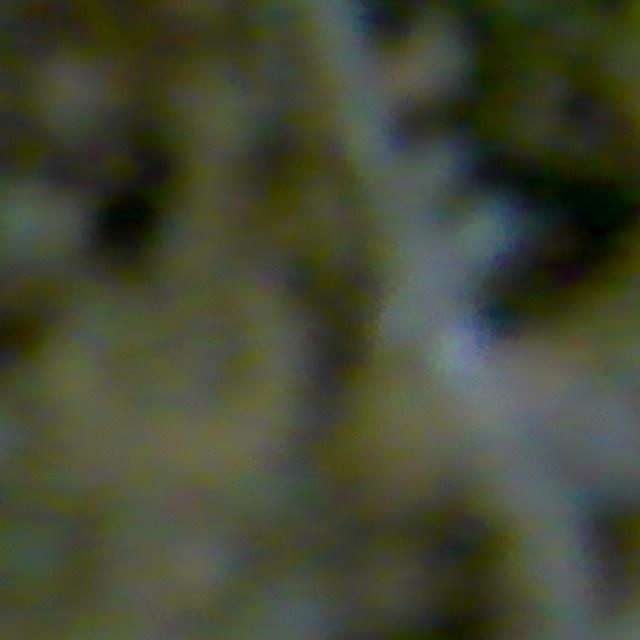SeaGrape: (26, 45, 131, 149), (0, 177, 87, 274)
